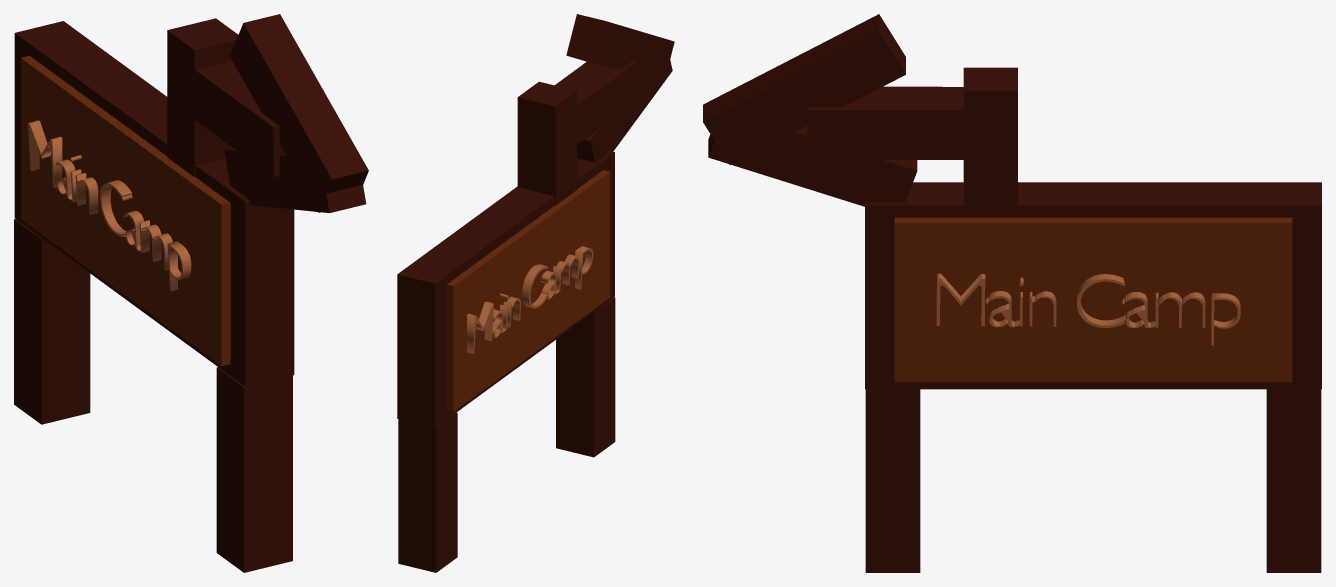
File: Main Camp Sign.fbx
The picture shows the model from 3 angles, left to right: view 1: azimuth 30°, elevation 25°; view 2: azimuth 150°, elevation 25°; view 3: azimuth 270°, elevation 25°; orthographic projection. The views are drawn at different scales.
Parts seen in each view (by area): view 1: Cube.005, Text; view 2: Cube.005, Text; view 3: Cube.005, Text.001.
Boxes of the visible parts, x1,y1,x2,y2 form: Cube.005: (14,14,368,572); Text: (28,120,191,291); Cube.005: (397,14,674,572); Text: (467,246,593,353); Cube.005: (703,14,1321,572); Text.001: (936,273,1240,345).
Size of the model in its own units: 100 by 587 by 611.
